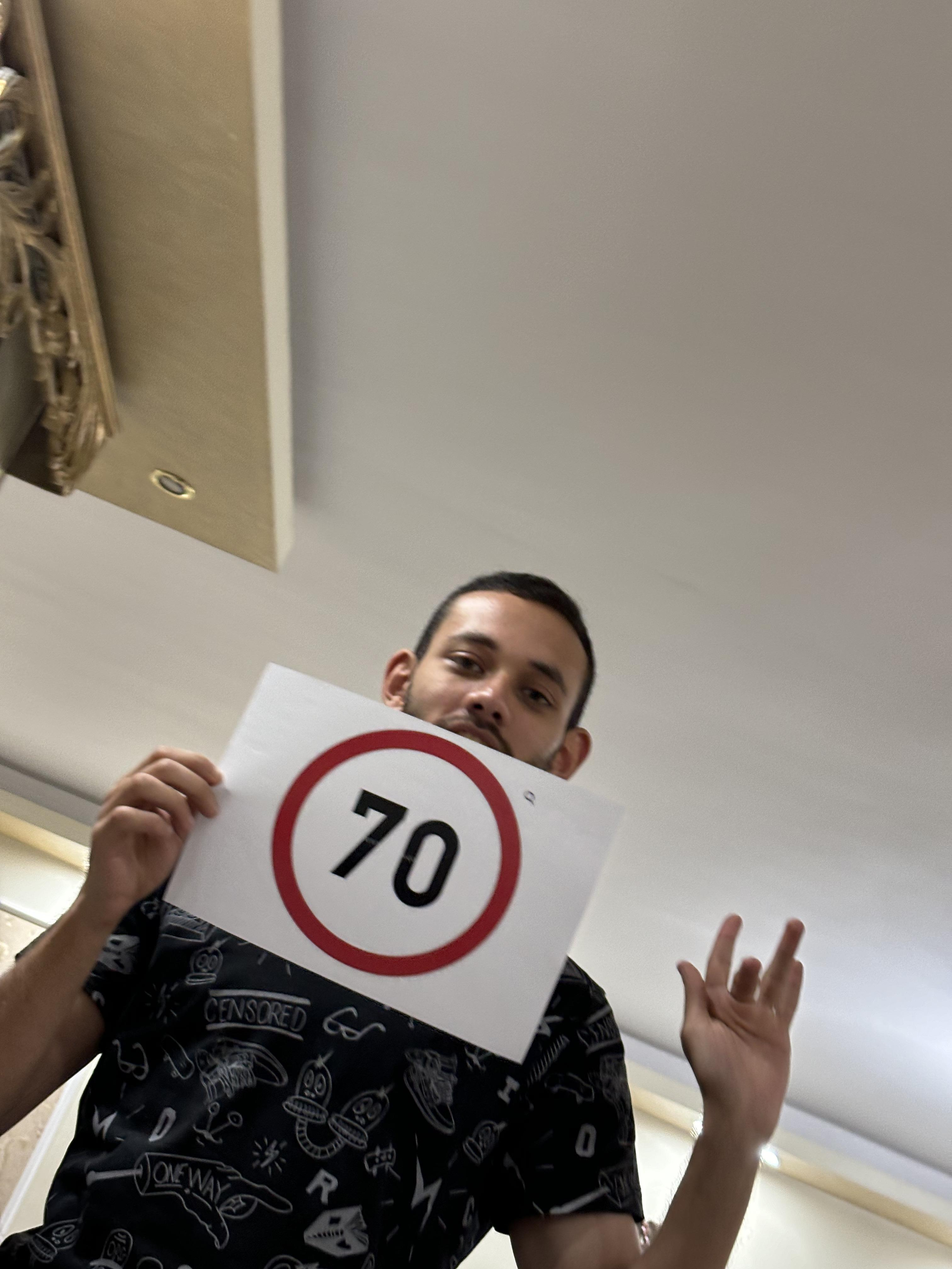70-Speed: (268, 726, 529, 972)
